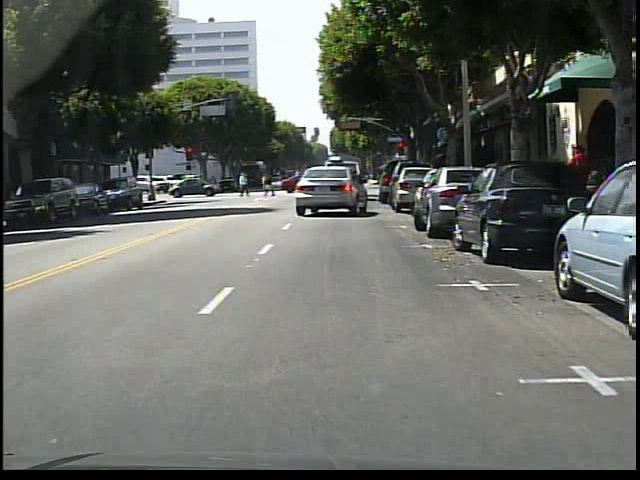person: (568, 142, 596, 220), (239, 172, 253, 196), (266, 169, 278, 197), (264, 174, 265, 190)
